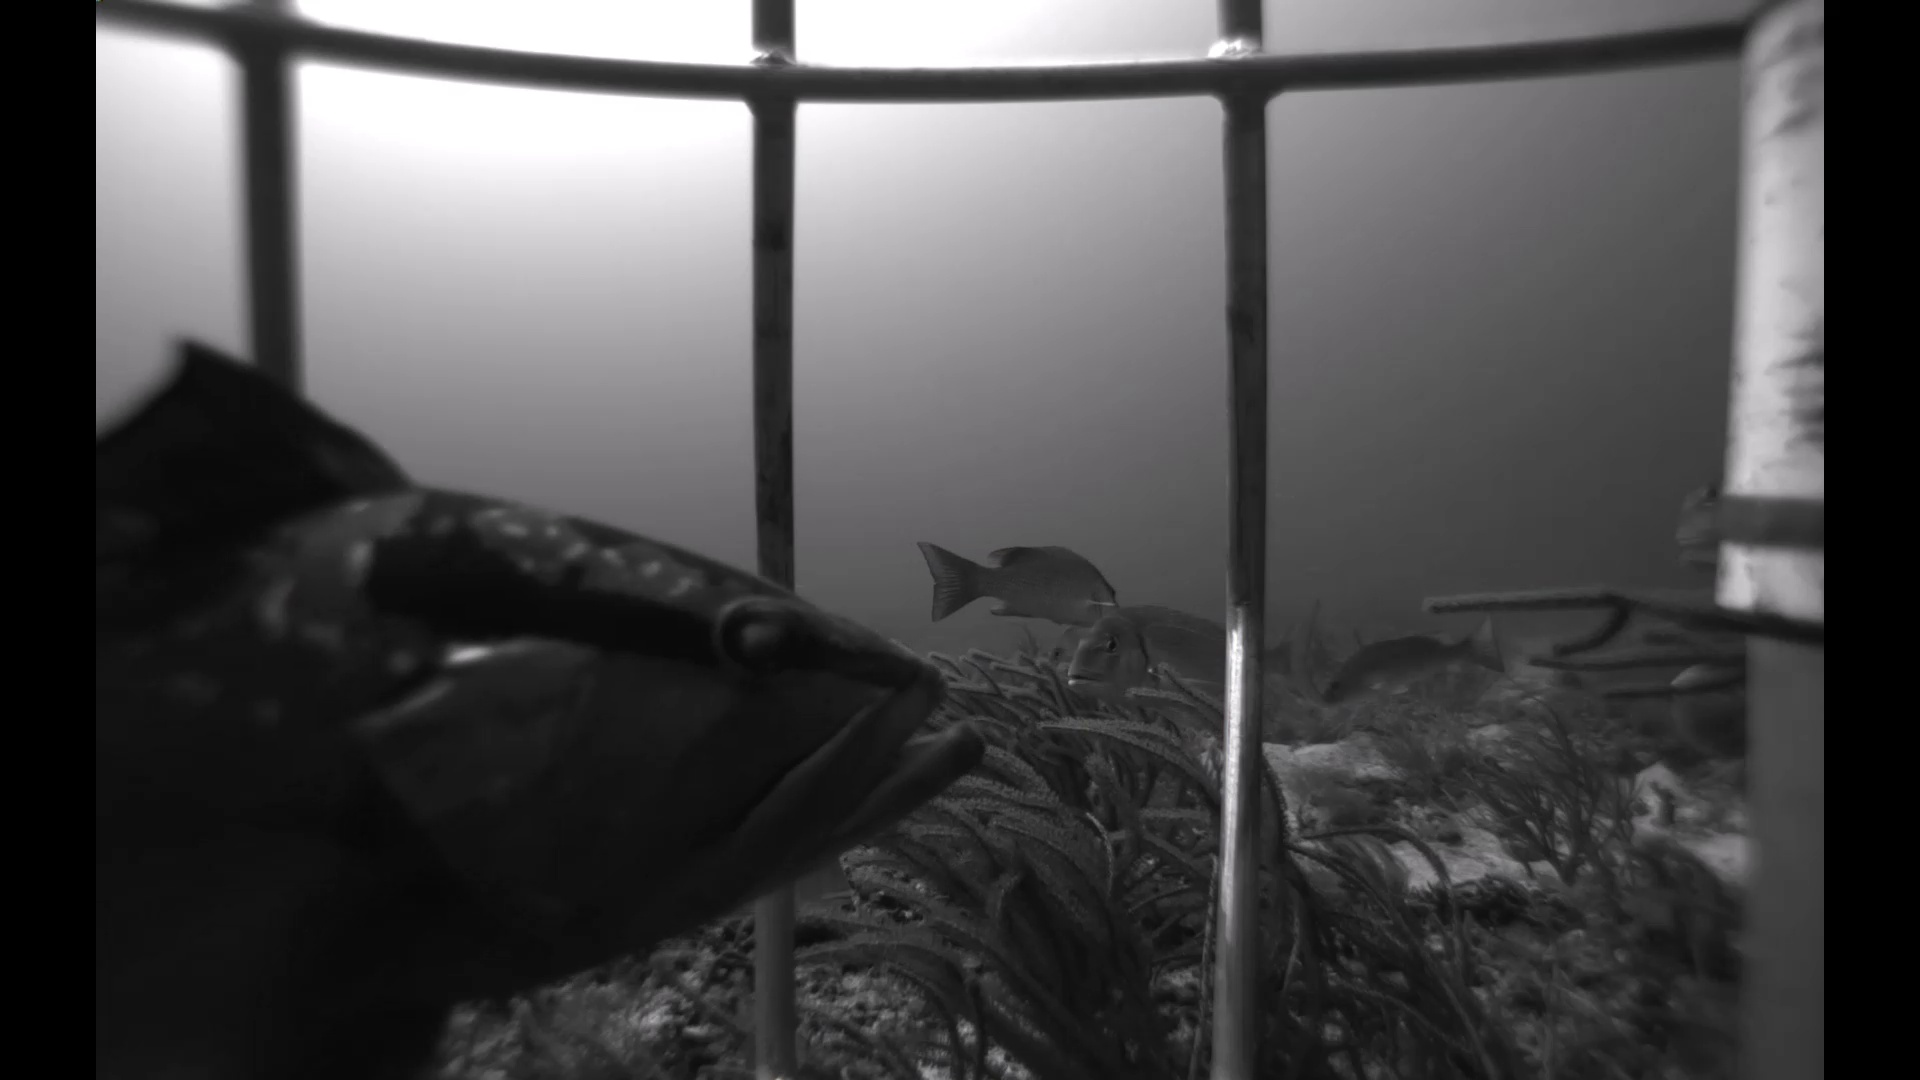CALAMUSNODOSUS-170210608: (781, 845, 869, 918), (1038, 613, 1096, 674)
EPINEPHELUSMORIO-170021211: (102, 320, 1014, 1065)
HOLACANTHUSBERMUDENSIS-170290102: (1655, 647, 1762, 787)
LUTJANUSGRISEUS-170151109: (907, 533, 1127, 640), (1317, 612, 1511, 715)
PAGRUSPAGRUS-170212302: (1062, 579, 1335, 720), (1651, 471, 1720, 568)
